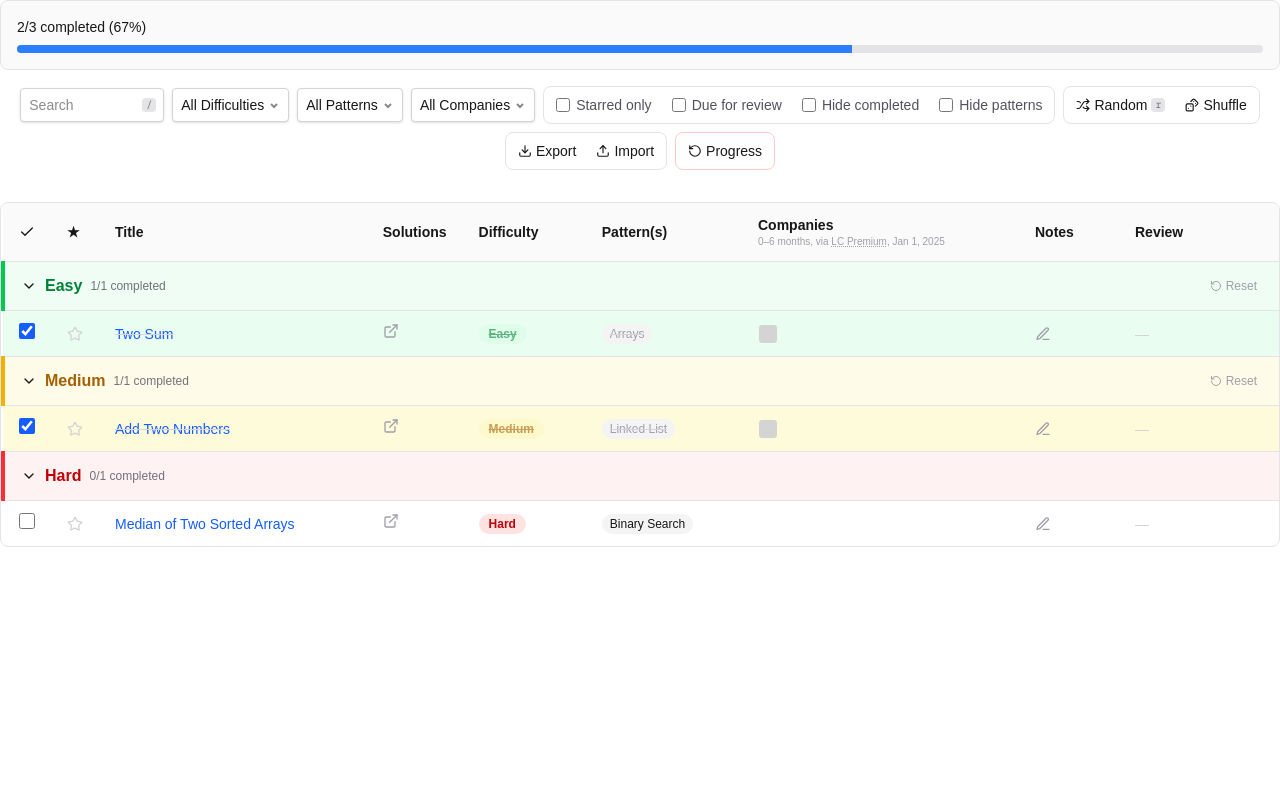
Test: QuestionsTable analytics › shows progress stats scoped to filtered questions
This screenshot has width=1280, height=800.
Expected: the text "2/3 completed (67%)" is shown, [17, 17, 146, 37]
Note: Filter to Easy only - 1 of 1 completed, only Easy breakdown shown
Click the button "All Difficulties": (231, 105) [172, 88, 289, 122]
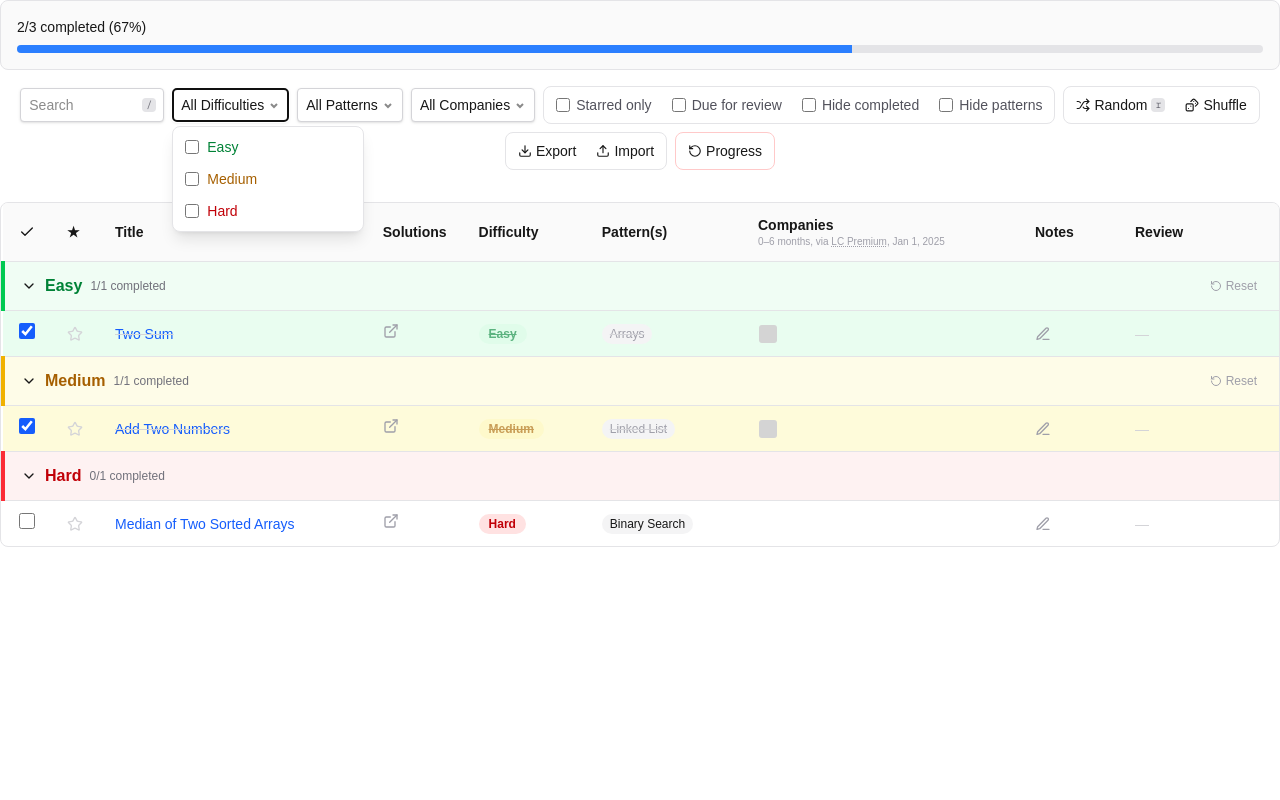
Click the checkbox labelled "Easy": (192, 147) [185, 140, 199, 154]
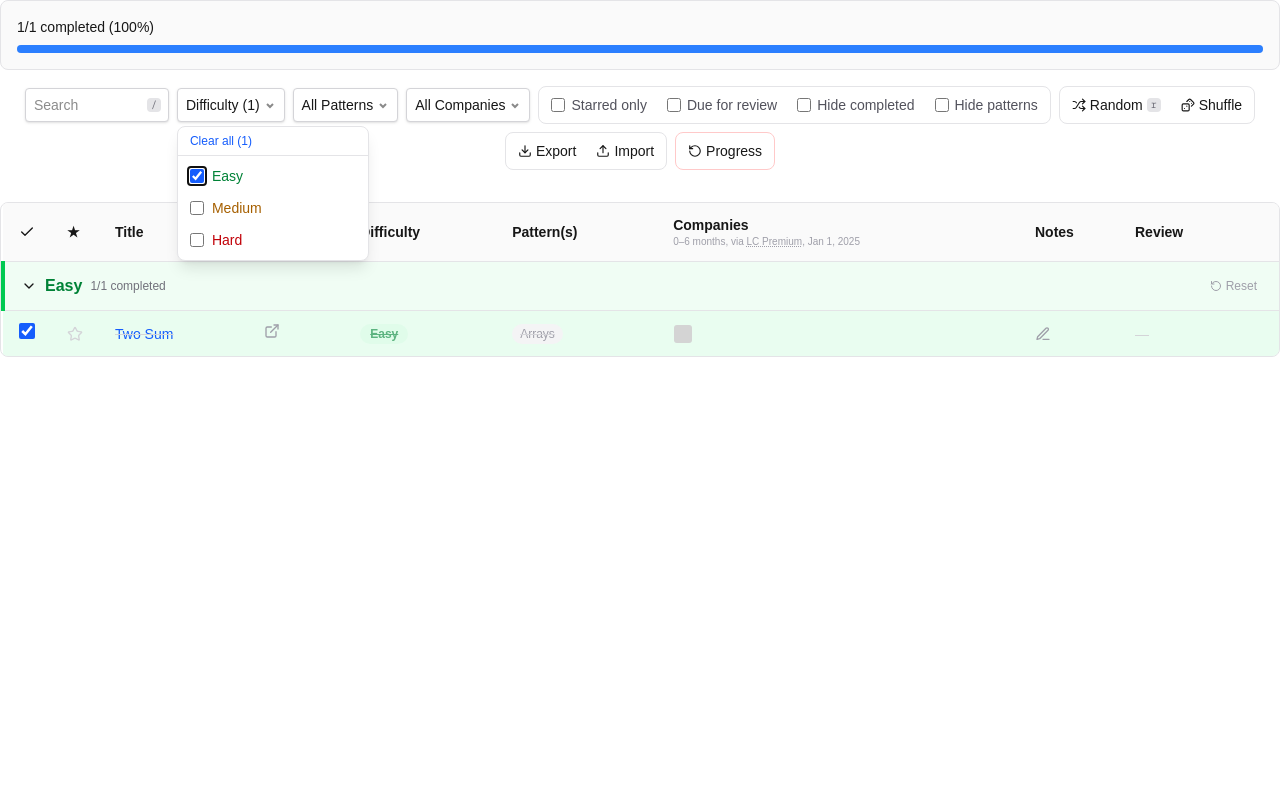
Expected: the text "1/1 completed (100%)" is shown, [17, 17, 154, 37]
